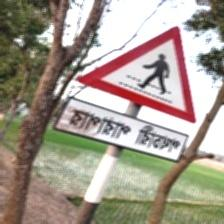Pedestrian-crossing: (54, 25, 199, 163)
